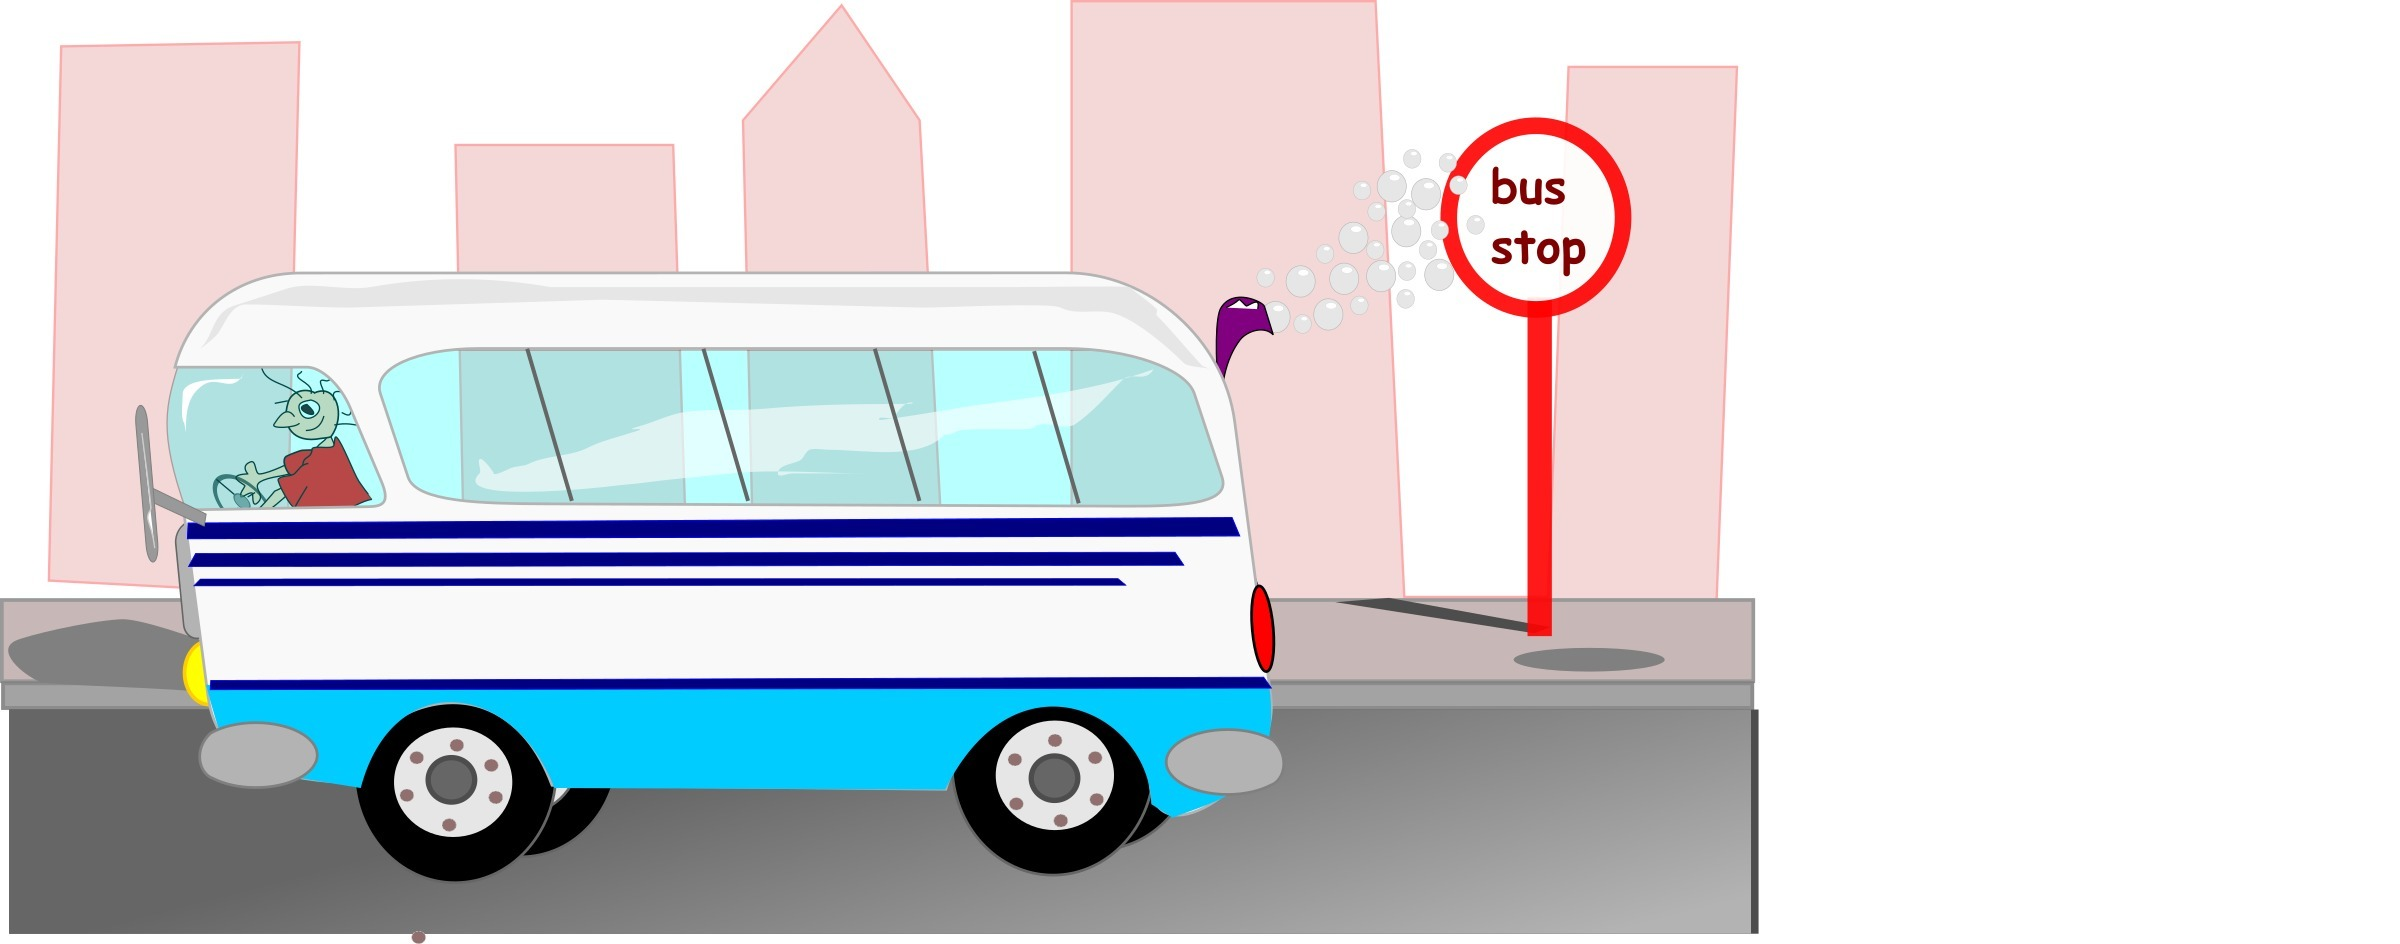bus: (73, 230, 1311, 872)
person: (244, 379, 383, 513)
